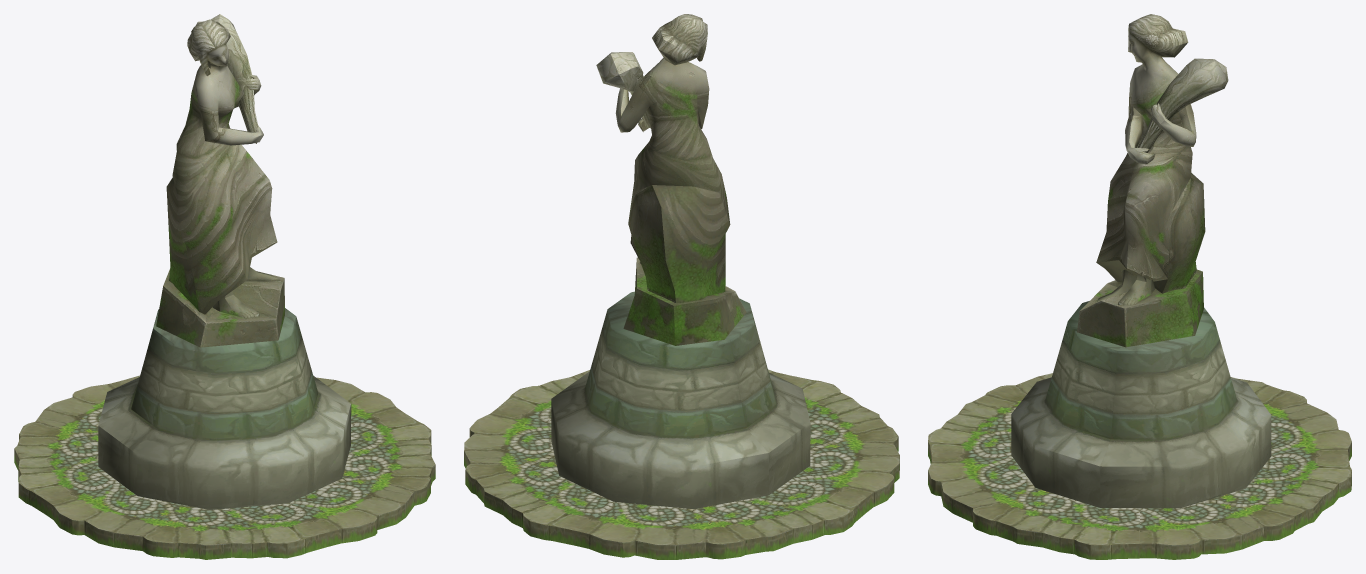
The model's file is stone42.FBX.
3 renders of one model, left to right at view 1: azimuth 30°, elevation 25°; view 2: azimuth 150°, elevation 25°; view 3: azimuth 270°, elevation 25°, orthographic. The views are drawn at different scales.
Parts seen in each view (by area): view 1: stone42; view 2: stone42; view 3: stone42.
Boxes of the visible parts, x1,y1,x2,y2 form: stone42: (14, 14, 435, 559); stone42: (464, 14, 899, 559); stone42: (928, 14, 1351, 559).
Size of the model in its own units: 889 by 1042 by 889.
